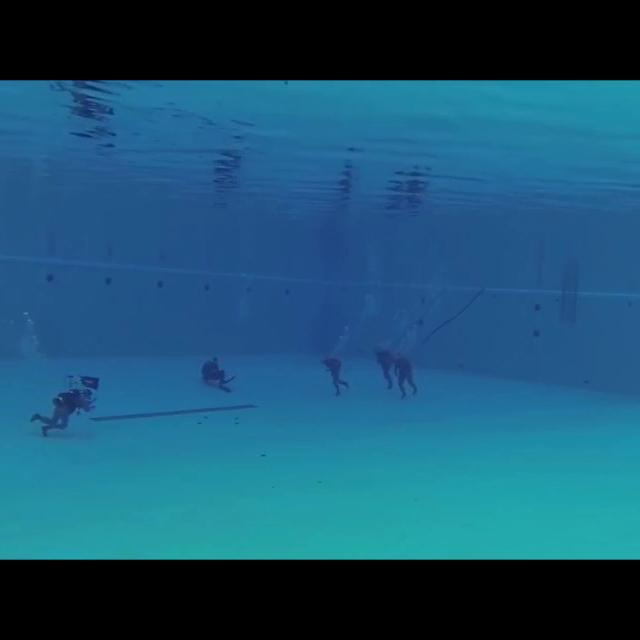human: (22, 370, 108, 441), (195, 350, 238, 397), (315, 349, 354, 398), (390, 349, 425, 403), (369, 337, 401, 395)
